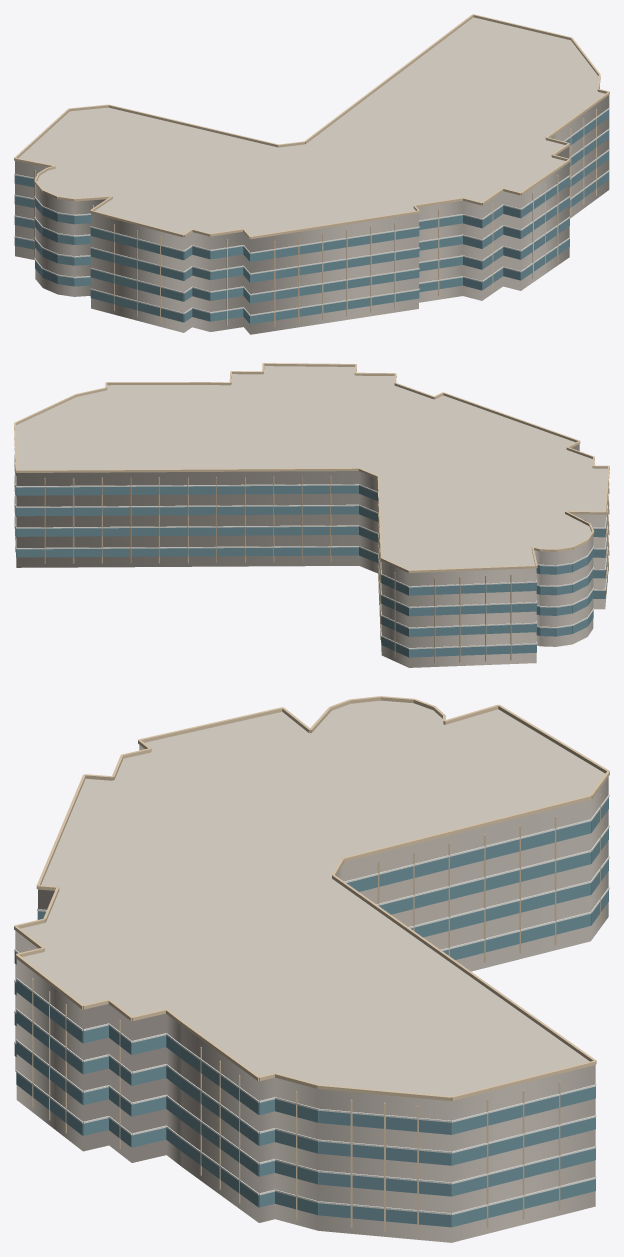
File: mahagun-metro-mall.glb
3 views of the same model, one above another, from view 1: azimuth 30°, elevation 25°; view 2: azimuth 150°, elevation 25°; view 3: azimuth 270°, elevation 25° (orthographic). The views are drawn at different scales.
Parts seen in each view (by area): view 1: NCR_mahagun-metro-mall; view 2: NCR_mahagun-metro-mall; view 3: NCR_mahagun-metro-mall.
Part boxes in pixels (x1,y1,x2,y2): NCR_mahagun-metro-mall: (14, 14, 609, 334); NCR_mahagun-metro-mall: (14, 363, 609, 667); NCR_mahagun-metro-mall: (14, 696, 609, 1242).
Size of the model in its own units: 154 by 26 by 96.39.
